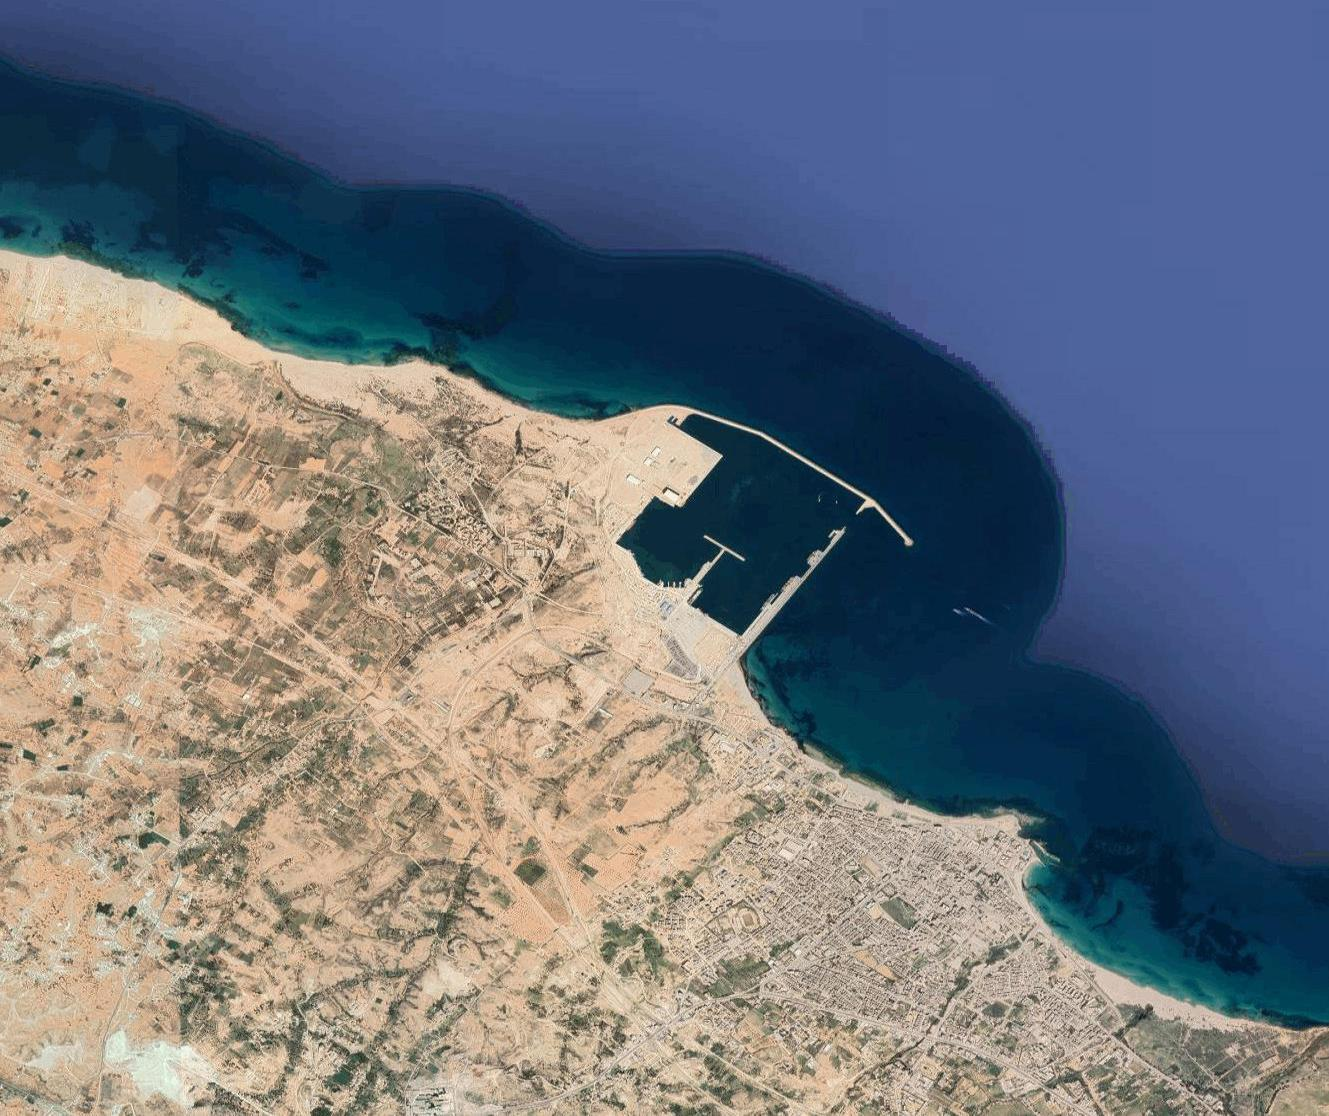harbor: (604, 397, 885, 637)
